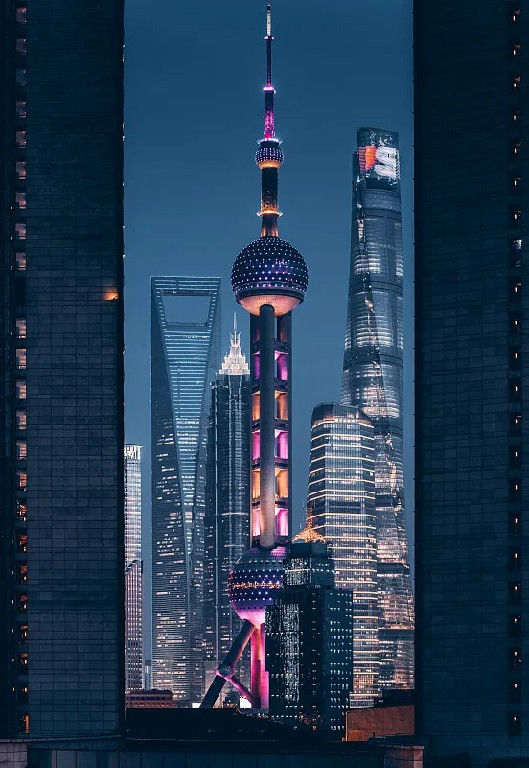Oriental: (200, 2, 310, 710)
